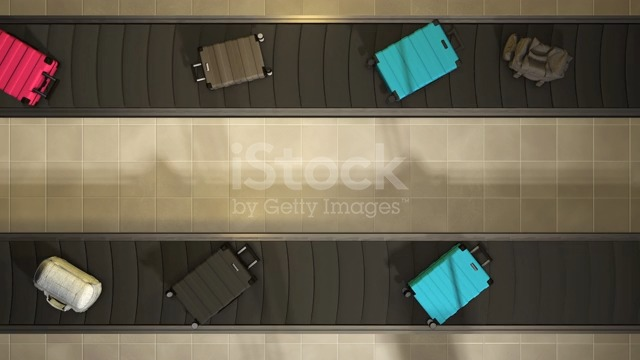Bag: (161, 242, 268, 334), (401, 240, 502, 333), (367, 19, 474, 103), (0, 23, 71, 110), (188, 31, 279, 95), (28, 247, 106, 320), (498, 30, 578, 93)
Handle: (28, 69, 67, 107), (235, 242, 264, 272), (468, 239, 496, 270), (445, 26, 469, 57), (189, 62, 210, 87)
Straps: (44, 293, 71, 311)
